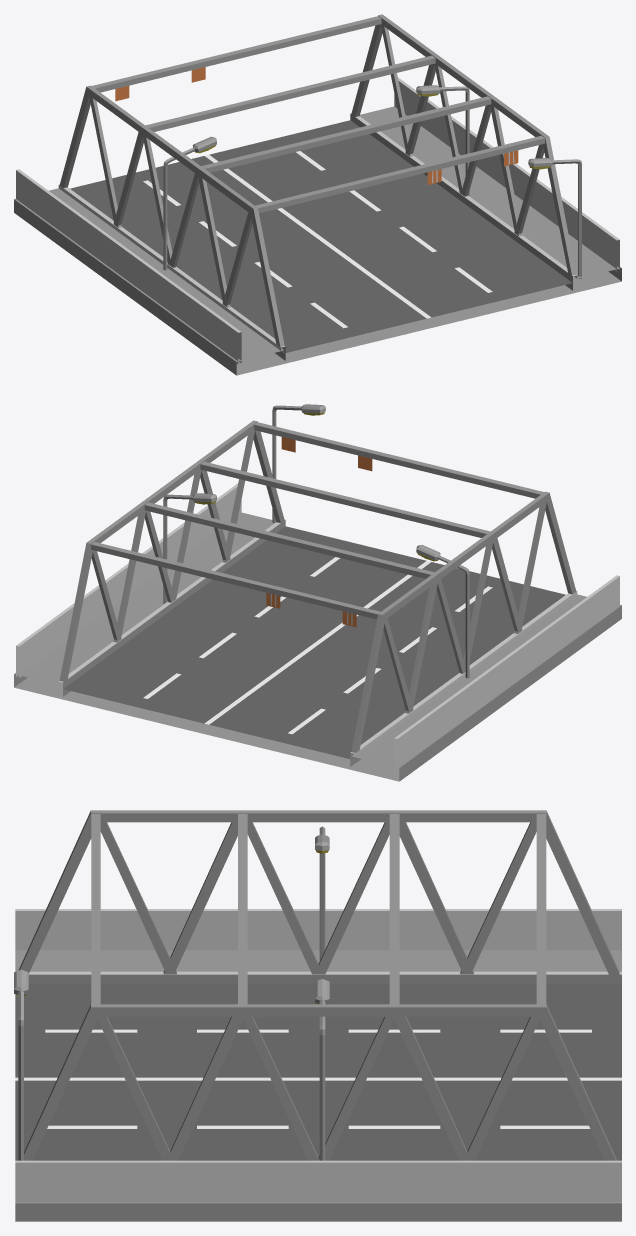
The model's file is road_tile_bridge_2x2_002.fbx.
3 views of the same model, one above another, from view 1: azimuth 30°, elevation 25°; view 2: azimuth 150°, elevation 25°; view 3: azimuth 270°, elevation 25° (orthographic). The views are drawn at different scales.
Parts seen in each view (by area): view 1: road_tile_bridge_2x2_002; view 2: road_tile_bridge_2x2_002; view 3: road_tile_bridge_2x2_002.
Boxes of the visible parts, bbox=[...] form: road_tile_bridge_2x2_002: bbox=[14, 14, 621, 375]; road_tile_bridge_2x2_002: bbox=[14, 404, 621, 781]; road_tile_bridge_2x2_002: bbox=[14, 810, 621, 1221].
Size of the model in its own units: 1600 by 563 by 1604.
